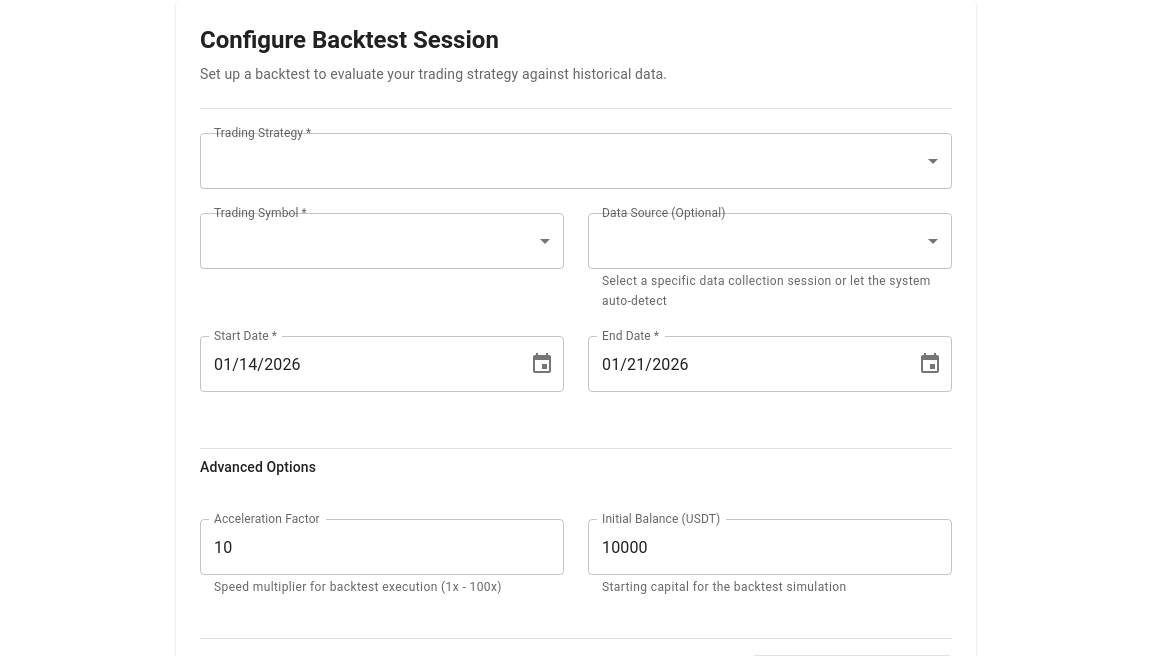
it: BacktestSetupForm › AC1: Strategy Selection › allows selecting a strategy
// Open and select
Step 1. Press the mouse on the dropdown named "Trading Strategy" next to "Trading Strategy *" → (576, 161), box [200,133,952,189]
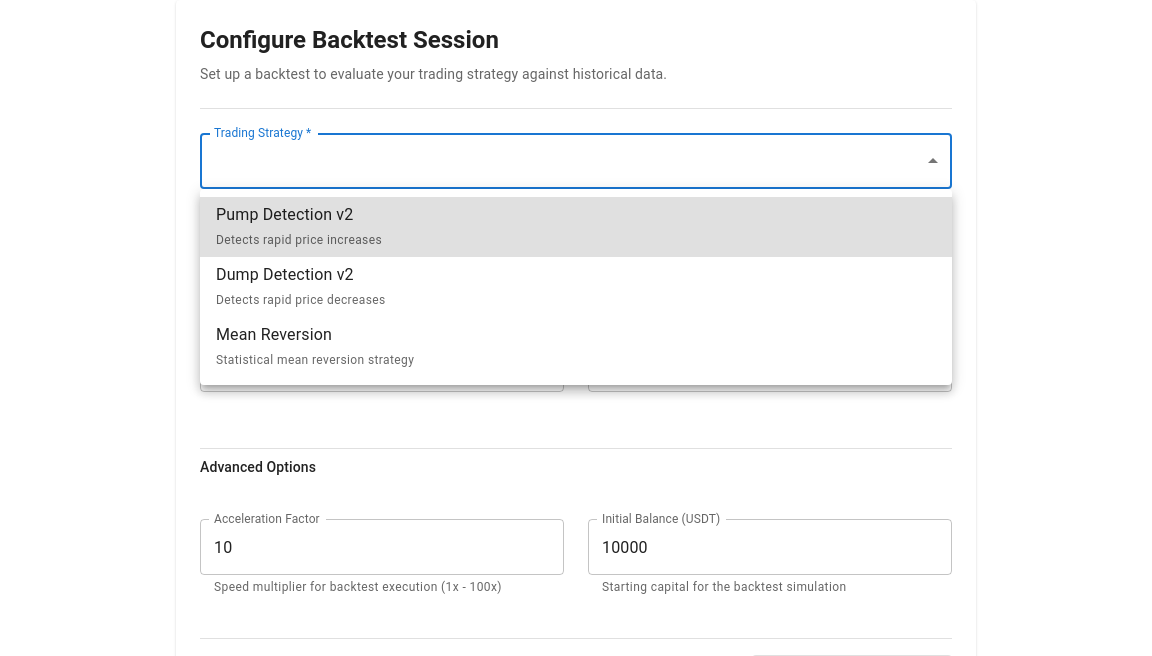
expect the text "Pump Detection v2" is shown: met
Step 2. Click the text "Pump Detection v2" → (285, 214), box [216,205,353,224]
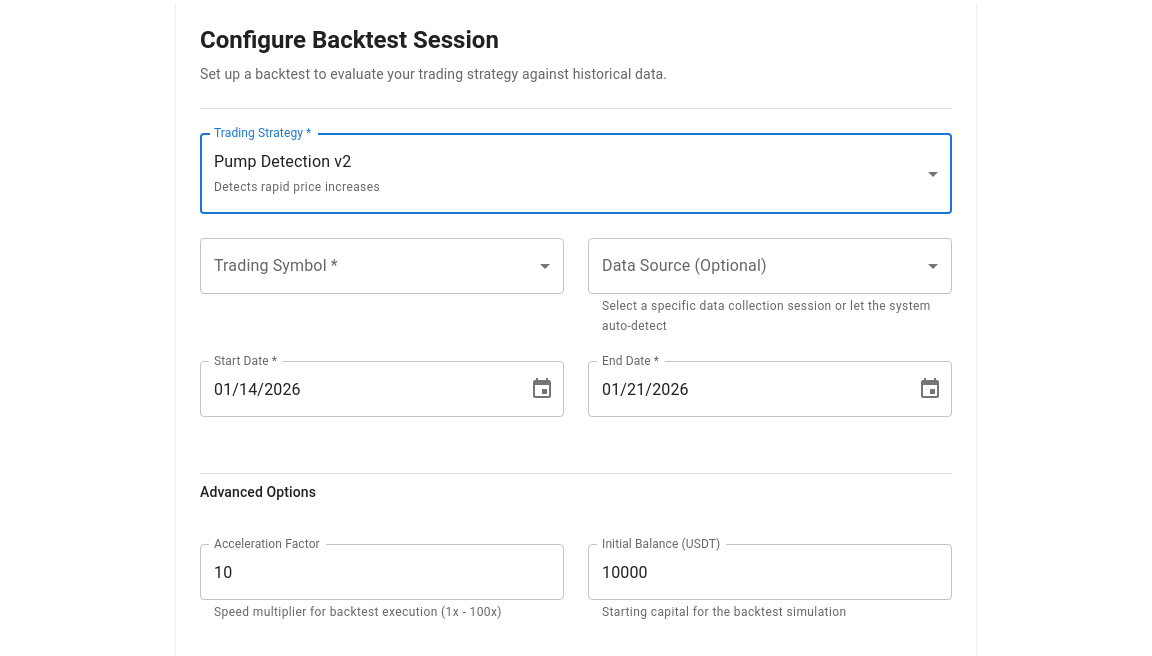
expect the dropdown named "Trading Strategy" shows "Pump Detection v2": met, box [214,152,380,194]
